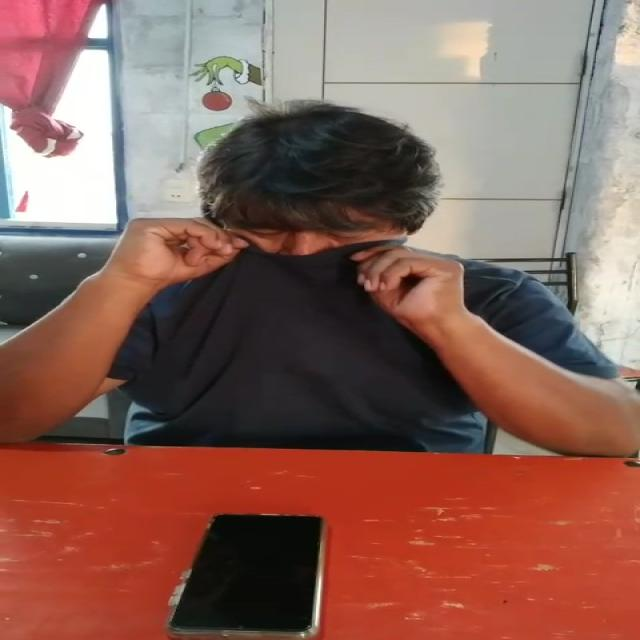8_ropa_rostro: (155, 227, 488, 338)
